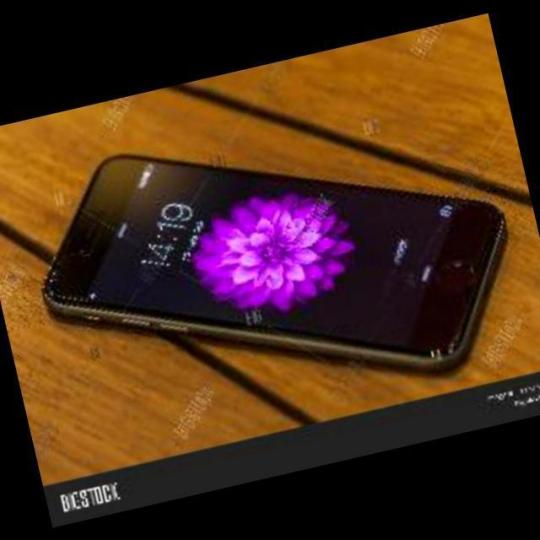phone: (41, 150, 506, 374)
